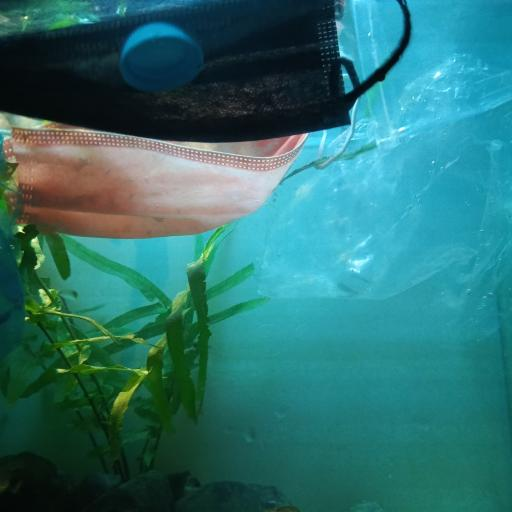bottle_cap: (121, 22, 204, 92)
mask: (1, 0, 413, 141), (2, 115, 358, 237)
plastic_bag: (242, 48, 512, 339)
